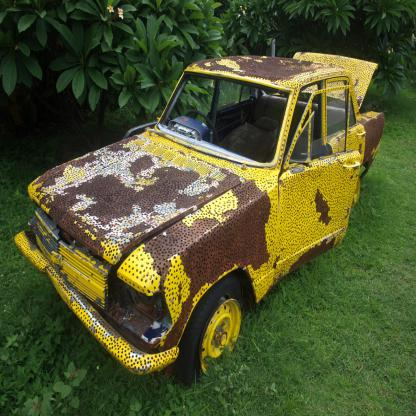Car: (13, 53, 386, 384)
